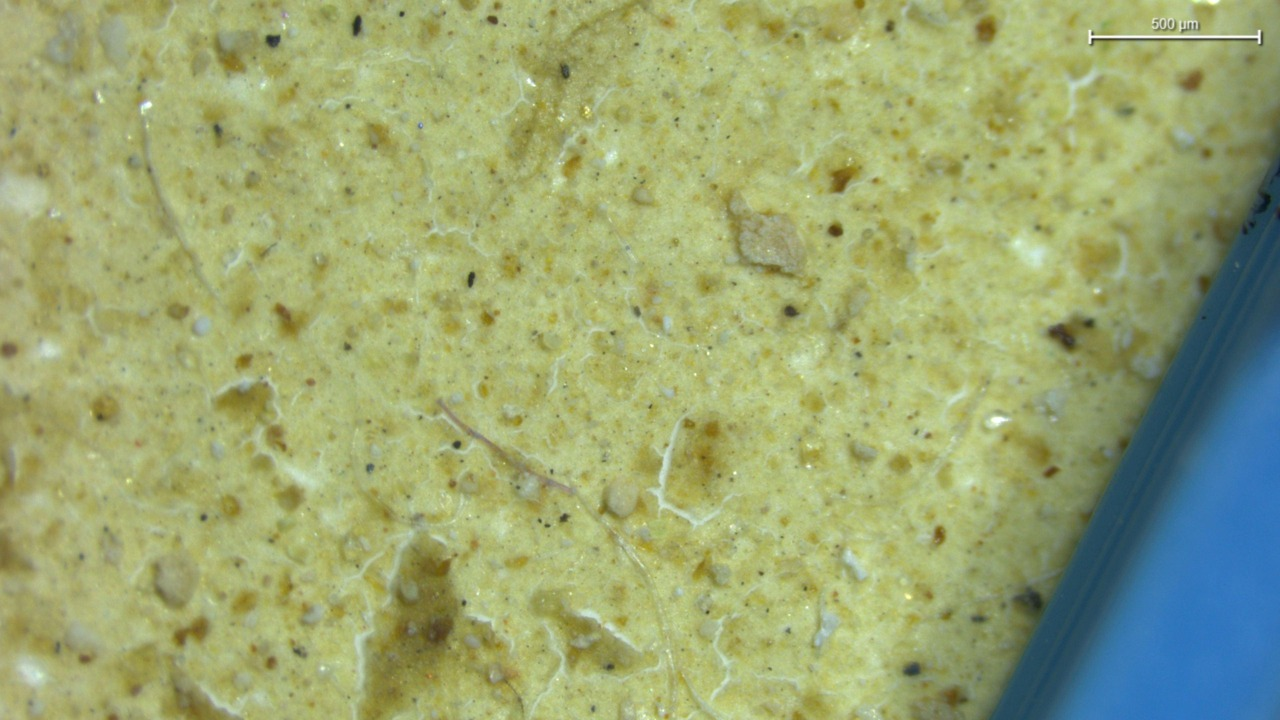microplastic_fragment: (727, 191, 806, 275)
